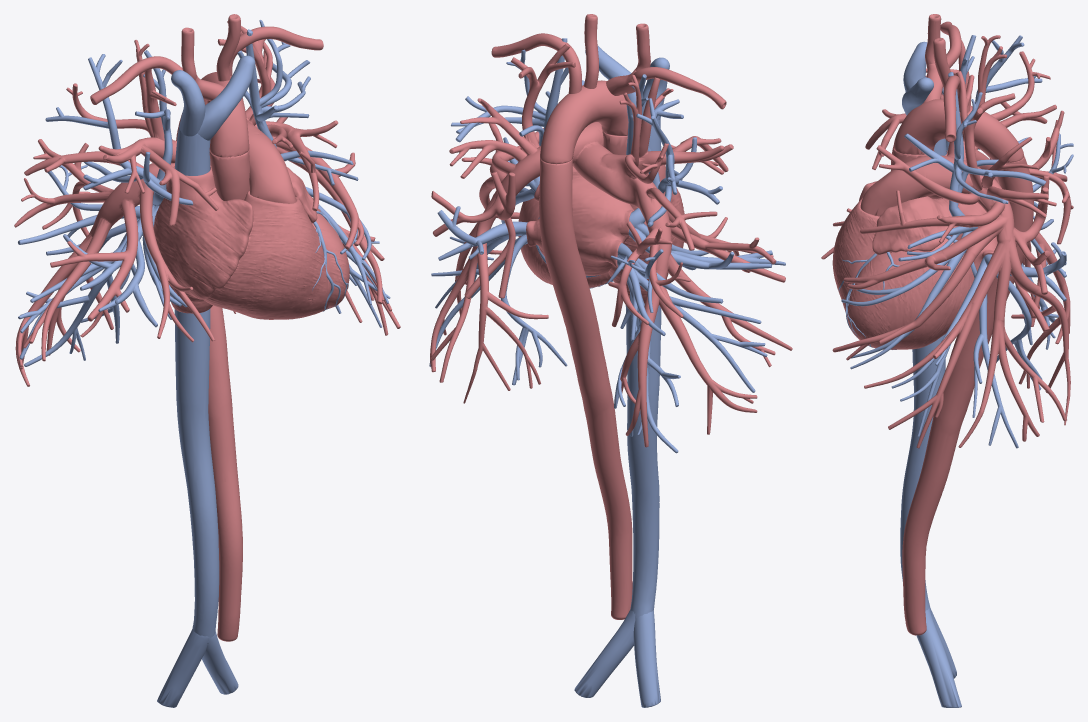
File: circulatory.glb
3 renders of one model, left to right at view 1: azimuth 30°, elevation 25°; view 2: azimuth 150°, elevation 25°; view 3: azimuth 270°, elevation 25°, orthographic.
Parts seen in each view (by area): view 1: FMA66326, FMA7274, FMA66643, FMA10951, FMA3784, FMA4761, FMA21387, FMA3768, FMA3736, FMA4751, FMA4720, FMA4694 (+5 smaller); view 2: FMA66326, FMA66643, FMA3784, FMA7274, FMA10951, FMA3768, FMA21387, FMA21388, FMA4694, FMA3953, FMA4058, FMA4761 (+1 smaller); view 3: FMA66326, FMA7274, FMA66643, FMA3784, FMA3768, FMA10951, FMA21388, FMA4694, FMA4751, FMA4761, FMA3953, FMA4058 (+3 smaller).
Part boxes in pixels (bbox=[...]): FMA66326: bbox=[14, 20, 400, 386]; FMA7274: bbox=[153, 165, 349, 319]; FMA66643: bbox=[18, 20, 390, 366]; FMA10951: bbox=[174, 308, 219, 643]; FMA3784: bbox=[176, 113, 242, 641]; FMA4761: bbox=[197, 55, 255, 140]; FMA21387: bbox=[157, 629, 209, 707]; FMA3768: bbox=[201, 72, 249, 157]; FMA3736: bbox=[209, 150, 249, 200]; FMA4751: bbox=[171, 70, 205, 136]; FMA4720: bbox=[174, 126, 210, 175]; FMA4694: bbox=[229, 26, 323, 76]; FMA66326: bbox=[430, 43, 792, 447]; FMA66643: bbox=[429, 38, 785, 453]; FMA3784: bbox=[539, 158, 632, 619]; FMA7274: bbox=[518, 165, 685, 303]; FMA10951: bbox=[625, 303, 661, 619]; FMA3768: bbox=[540, 80, 628, 164]; FMA21387: bbox=[633, 610, 660, 707]; FMA21388: bbox=[574, 609, 635, 697]; FMA4694: bbox=[491, 33, 581, 93]; FMA3953: bbox=[631, 67, 726, 109]; FMA4058: bbox=[584, 14, 598, 88]; FMA4761: bbox=[585, 46, 645, 121]; FMA66326: bbox=[821, 35, 1073, 448]; FMA7274: bbox=[832, 150, 997, 349]; FMA66643: bbox=[841, 35, 1073, 448]; FMA3784: bbox=[902, 155, 1033, 635]; FMA3768: bbox=[893, 99, 1023, 162]; FMA10951: bbox=[900, 334, 945, 612]; FMA21388: bbox=[916, 608, 961, 707]; FMA4694: bbox=[943, 75, 970, 142]; FMA4751: bbox=[903, 41, 927, 91]; FMA4761: bbox=[902, 77, 933, 115]; FMA3953: bbox=[940, 21, 961, 68]; FMA4058: bbox=[933, 37, 950, 91].
Bounding box in the file's own units: 0.248 × 0.4729 × 0.1614.
